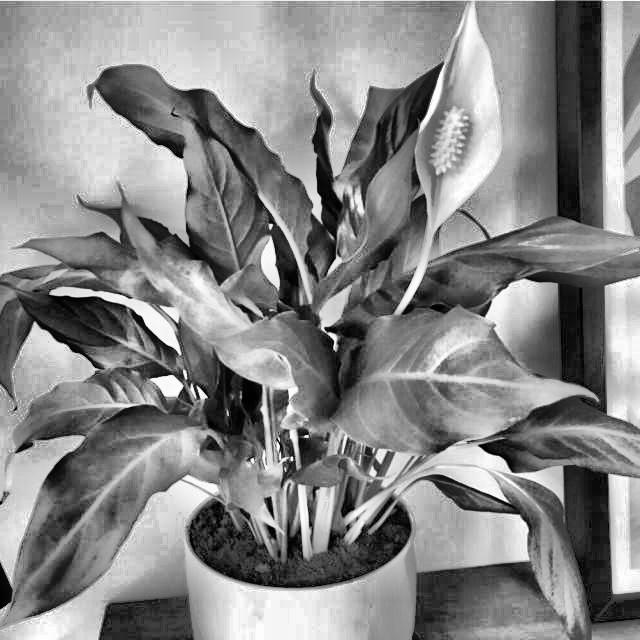plants: (11, 16, 640, 640), (329, 457, 607, 640)
